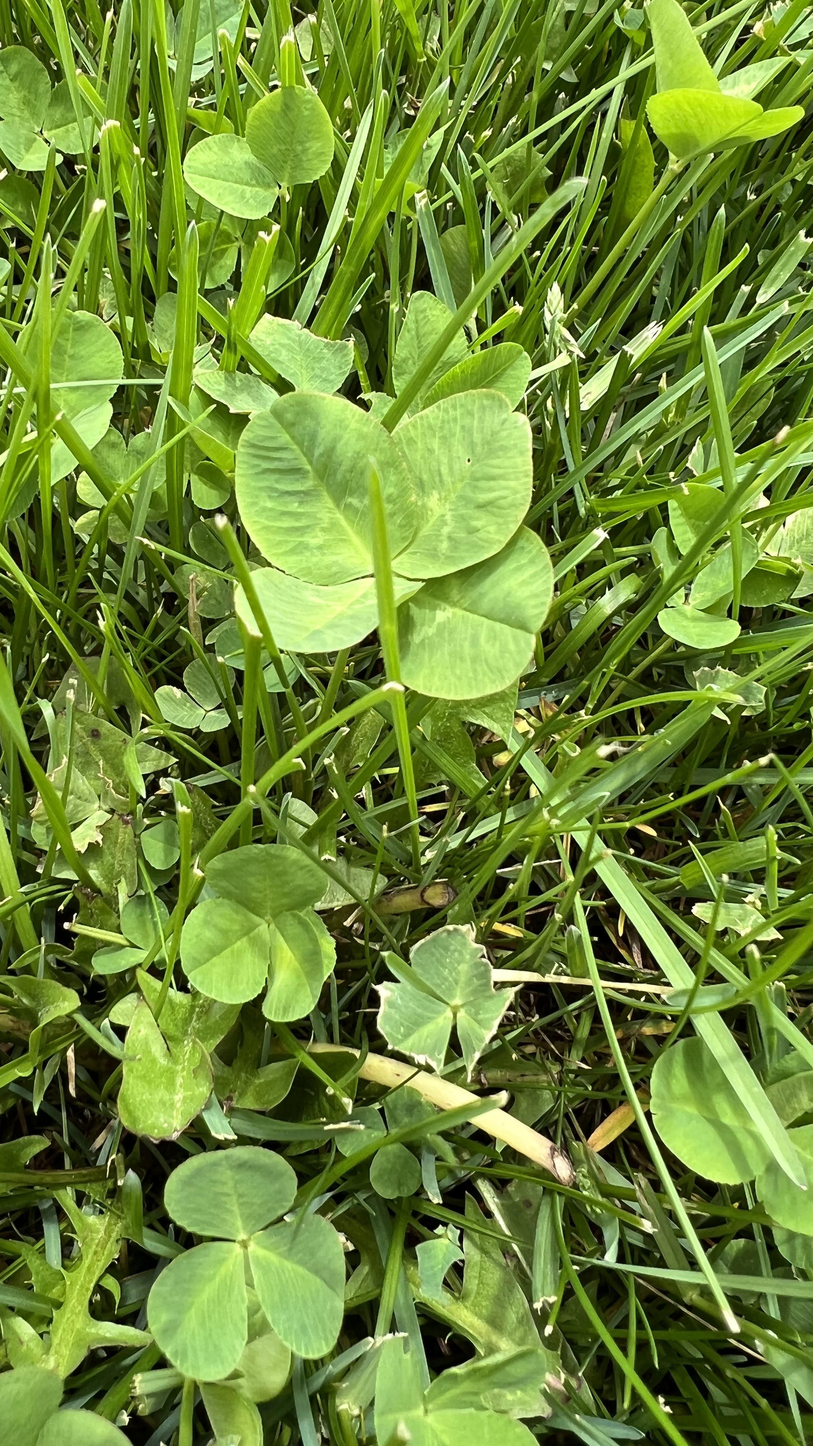4-Leaf-Clovers: (219, 461, 392, 1027)
